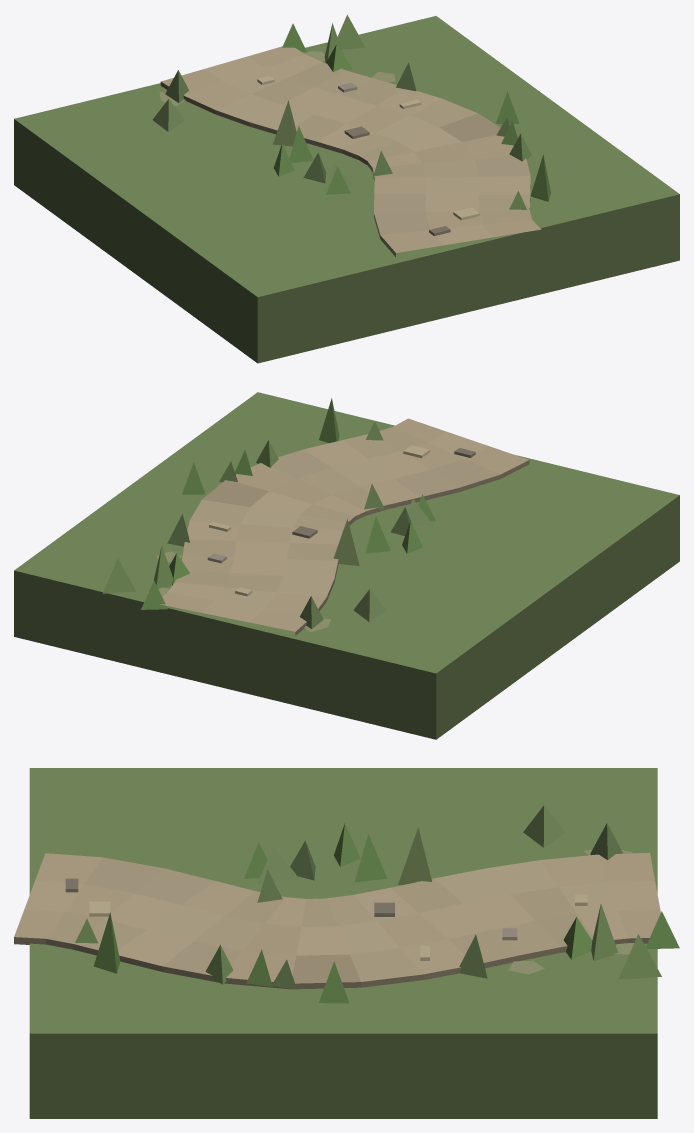
Rendered from t_footpath_3.glb.
The picture shows the model from 3 angles, top to bottom: view 1: azimuth 30°, elevation 25°; view 2: azimuth 150°, elevation 25°; view 3: azimuth 270°, elevation 25°; orthographic projection. The views are drawn at different scales.
Visible parts, largest first — view 1: t_footpath_3; view 2: t_footpath_3; view 3: t_footpath_3.
Part boxes in pixels (bbox=[...]): t_footpath_3: bbox=[14, 14, 679, 363]; t_footpath_3: bbox=[14, 392, 679, 739]; t_footpath_3: bbox=[14, 768, 679, 1118].
Bounding box in the file's own units: 2 × 0.4947 × 2.12.
